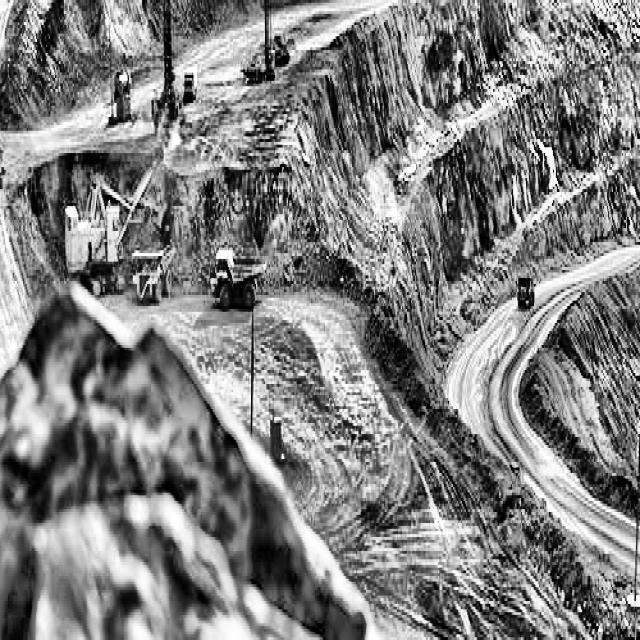dump_truck: (211, 243, 264, 307), (131, 248, 170, 305), (516, 264, 541, 326), (162, 280, 168, 282)
excavator: (66, 153, 171, 242)
